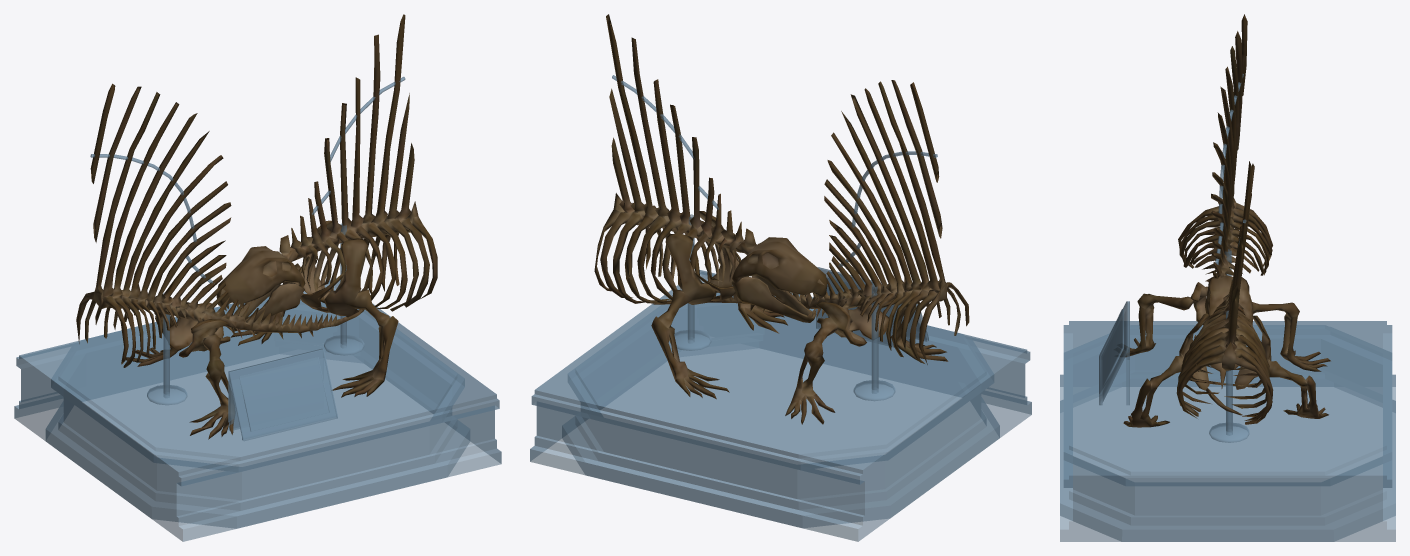
The model's file is fossil-dimetrodon.glb.
The picture shows the model from 3 angles, left to right: view 1: azimuth 30°, elevation 25°; view 2: azimuth 150°, elevation 25°; view 3: azimuth 270°, elevation 25°; orthographic projection. The views are drawn at different scales.
Parts seen in each view (by area): view 1: TemplateDummyFossilBaseEnd_mFossilBaseEnd (×2), mFtrFossilDimetrodonA, mFtrFossilDimetrodonB; view 2: TemplateDummyFossilBaseEnd_mFossilBaseEnd (×2), mFtrFossilDimetrodonA, mFtrFossilDimetrodonB; view 3: TemplateDummyFossilBaseEnd_mFossilBaseEnd (×2), mFtrFossilDimetrodonA, mFtrFossilDimetrodonB.
Boxes of the visible parts, x1,y1,x2,y2 form: TemplateDummyFossilBaseEnd_mFossilBaseEnd (×2): (14, 76, 501, 541); mFtrFossilDimetrodonA: (216, 14, 437, 397); mFtrFossilDimetrodonB: (76, 83, 363, 439); TemplateDummyFossilBaseEnd_mFossilBaseEnd (×2): (530, 75, 1031, 541); mFtrFossilDimetrodonA: (594, 14, 827, 399); mFtrFossilDimetrodonB: (651, 80, 969, 424); TemplateDummyFossilBaseEnd_mFossilBaseEnd (×2): (1060, 74, 1395, 541); mFtrFossilDimetrodonA: (1123, 161, 1328, 427); mFtrFossilDimetrodonB: (1120, 14, 1330, 415).
Size of the model in its own units: 20.1 by 23.12 by 18.33.
Materials: 3 (2 with a texture image).
